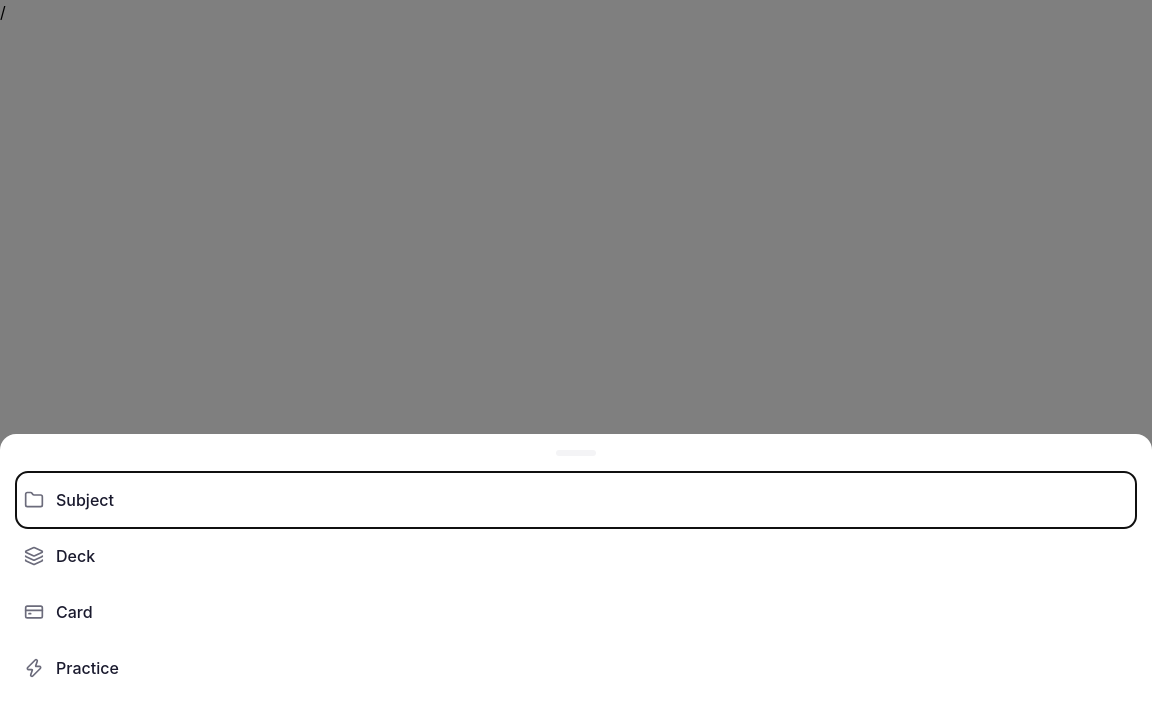
Scenario: CreateSheet › closes and navigates to /decks/new when Deck is tapped
The width and height of the screenshot is (1152, 720).
Click the button "Deck". click: click(76, 556)
box: x1=16 y1=528 x2=1136 y2=584
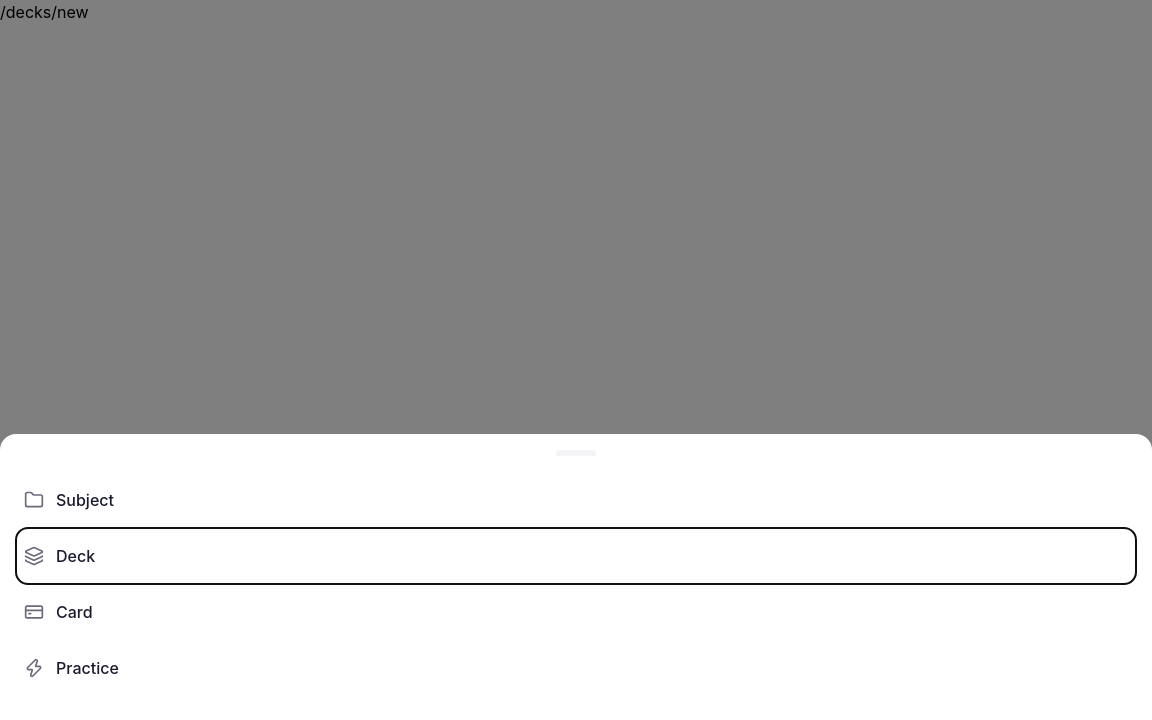
Result: the text with test id "location" reads "/decks/new" at x1=0 y1=2 x2=89 y2=22
